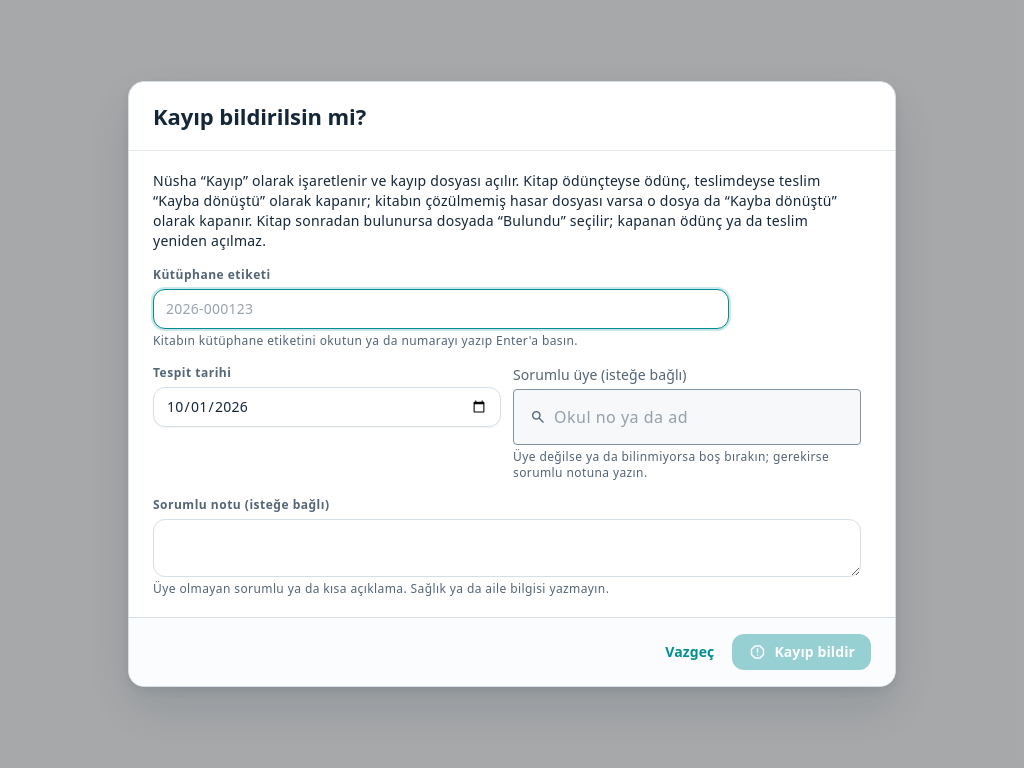
Test: DosyaAcDiyalogu — kayıp bildirimi › tanınmayan kod alan hatası verir, dosya açılmaz
Type "9789750812345" into the field labelled "Kütüphane etiketi".
click(441, 309); type("9789750812345")  # box top-left (166, 299), bottom-right (716, 319)
Then press Enter
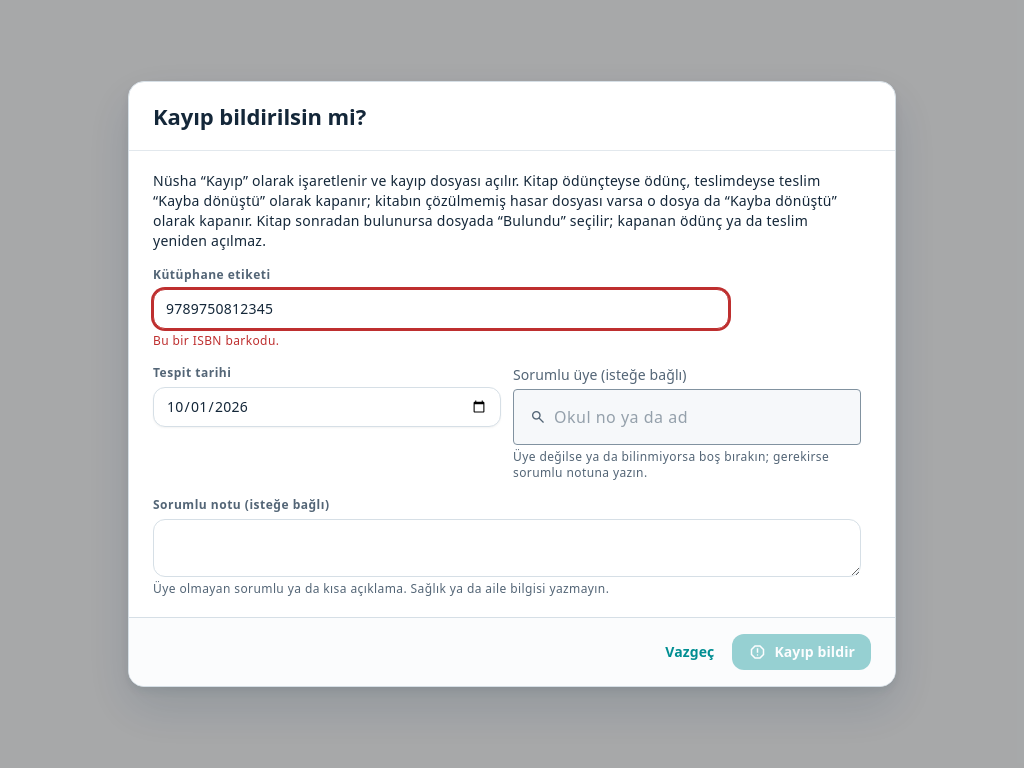
Expected: the button "Kayıp bildir" is disabled, top-left (732, 634), bottom-right (871, 670)
Expected: the text "Bu bir ISBN barkodu." is shown, top-left (153, 332), bottom-right (279, 349)
